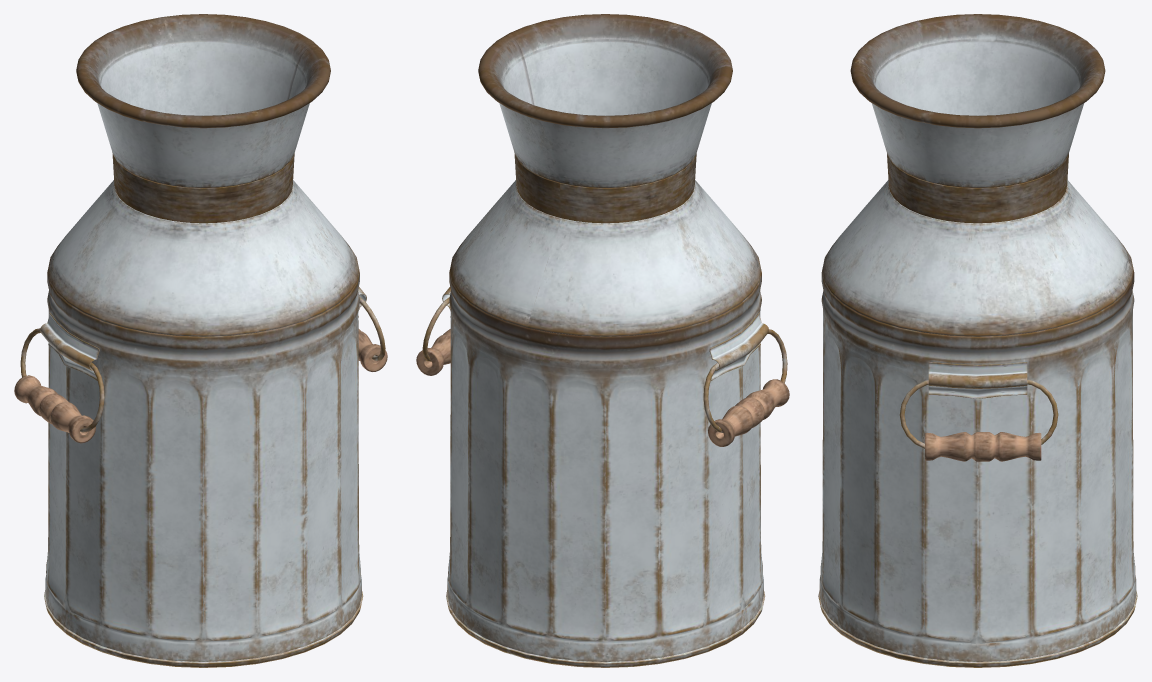
Rendered from planter_B078JM6FRK.glb.
3 renders of one model, left to right at view 1: azimuth 30°, elevation 25°; view 2: azimuth 150°, elevation 25°; view 3: azimuth 270°, elevation 25°, orthographic.
Parts seen in each view (by area): view 1: RootNode; view 2: RootNode; view 3: RootNode.
Part boxes in pixels (left/top/right/bottom): RootNode: left=14, top=14, right=387, bottom=667; RootNode: left=416, top=14, right=789, bottom=667; RootNode: left=818, top=14, right=1137, bottom=667.
Bounding box in the file's own units: 0.2451 × 0.3965 × 0.2136.
1 material, 1 textured.
